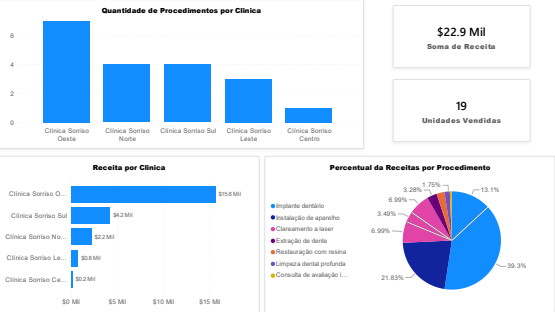

What the dashboard file says about the page in this screenshot:
{"tool":"powerbi","page":{"name":"Página 1","canvas":[1280,720],"ordinal":0},"visuals":[{"type":"clusteredColumnChart","title":"Quantidade de Procedimentos por Clinica","fields":{"Y":["vendas_clinicas_odontologicas (2).Unidades_Vendidas"],"Category":["vendas_clinicas_odontologicas (2).Nome_Clinica"]},"box":[0,0,840,343.3],"z":0},{"type":"barChart","title":"Receita por Clinica","fields":{"Category":["vendas_clinicas_odontologicas (2).Nome_Clinica"],"Y":["vendas_clinicas_odontologicas (2).Receita"]},"box":[0,359.5,599.7,361.2],"z":1000},{"type":"card","fields":{"Values":["vendas_clinicas_odontologicas (2).Unidades_Vendidas"]},"box":[907.1,183.1,315.8,144.5],"z":2000},{"type":"card","fields":{"Values":["vendas_clinicas_odontologicas (2).Receita"]},"box":[907.1,13.4,315.8,144.5],"z":3000},{"type":"pieChart","title":"Percentual da Receitas por Procedimento","fields":{"Category":["vendas_clinicas_odontologicas (2).Descricao_Procedimento"],"Series":["vendas_clinicas_odontologicas (2).ID_Paciente"],"Y":["vendas_clinicas_odontologicas (2).Receita"]},"box":[611.7,360,668.3,360],"z":6001}]}

Visuals, with their boxes in screenshot pixels (x1, y1, x2, y2), scaled from the page's 1280x720 canvas onto the 555x312 screenshot:
"Quantidade de Procedimentos por Clinica" clusteredColumnChart: region(0, 0, 364, 149)
"Receita por Clinica" barChart: region(0, 156, 260, 311)
card - vendas_clinicas_odontologicas (2).Unidades_Vendidas: region(393, 79, 530, 142)
card - vendas_clinicas_odontologicas (2).Receita: region(393, 6, 530, 68)
"Percentual da Receitas por Procedimento" pieChart: region(265, 156, 554, 311)
